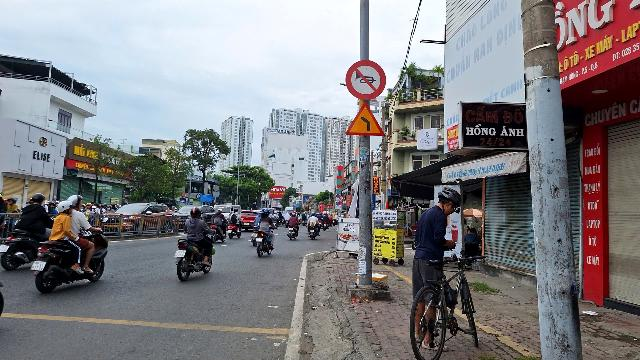cam-bop-coi: (346, 59, 386, 100)
cho-ngoat-nguy-hiem-ben-trai: (345, 101, 385, 136)
